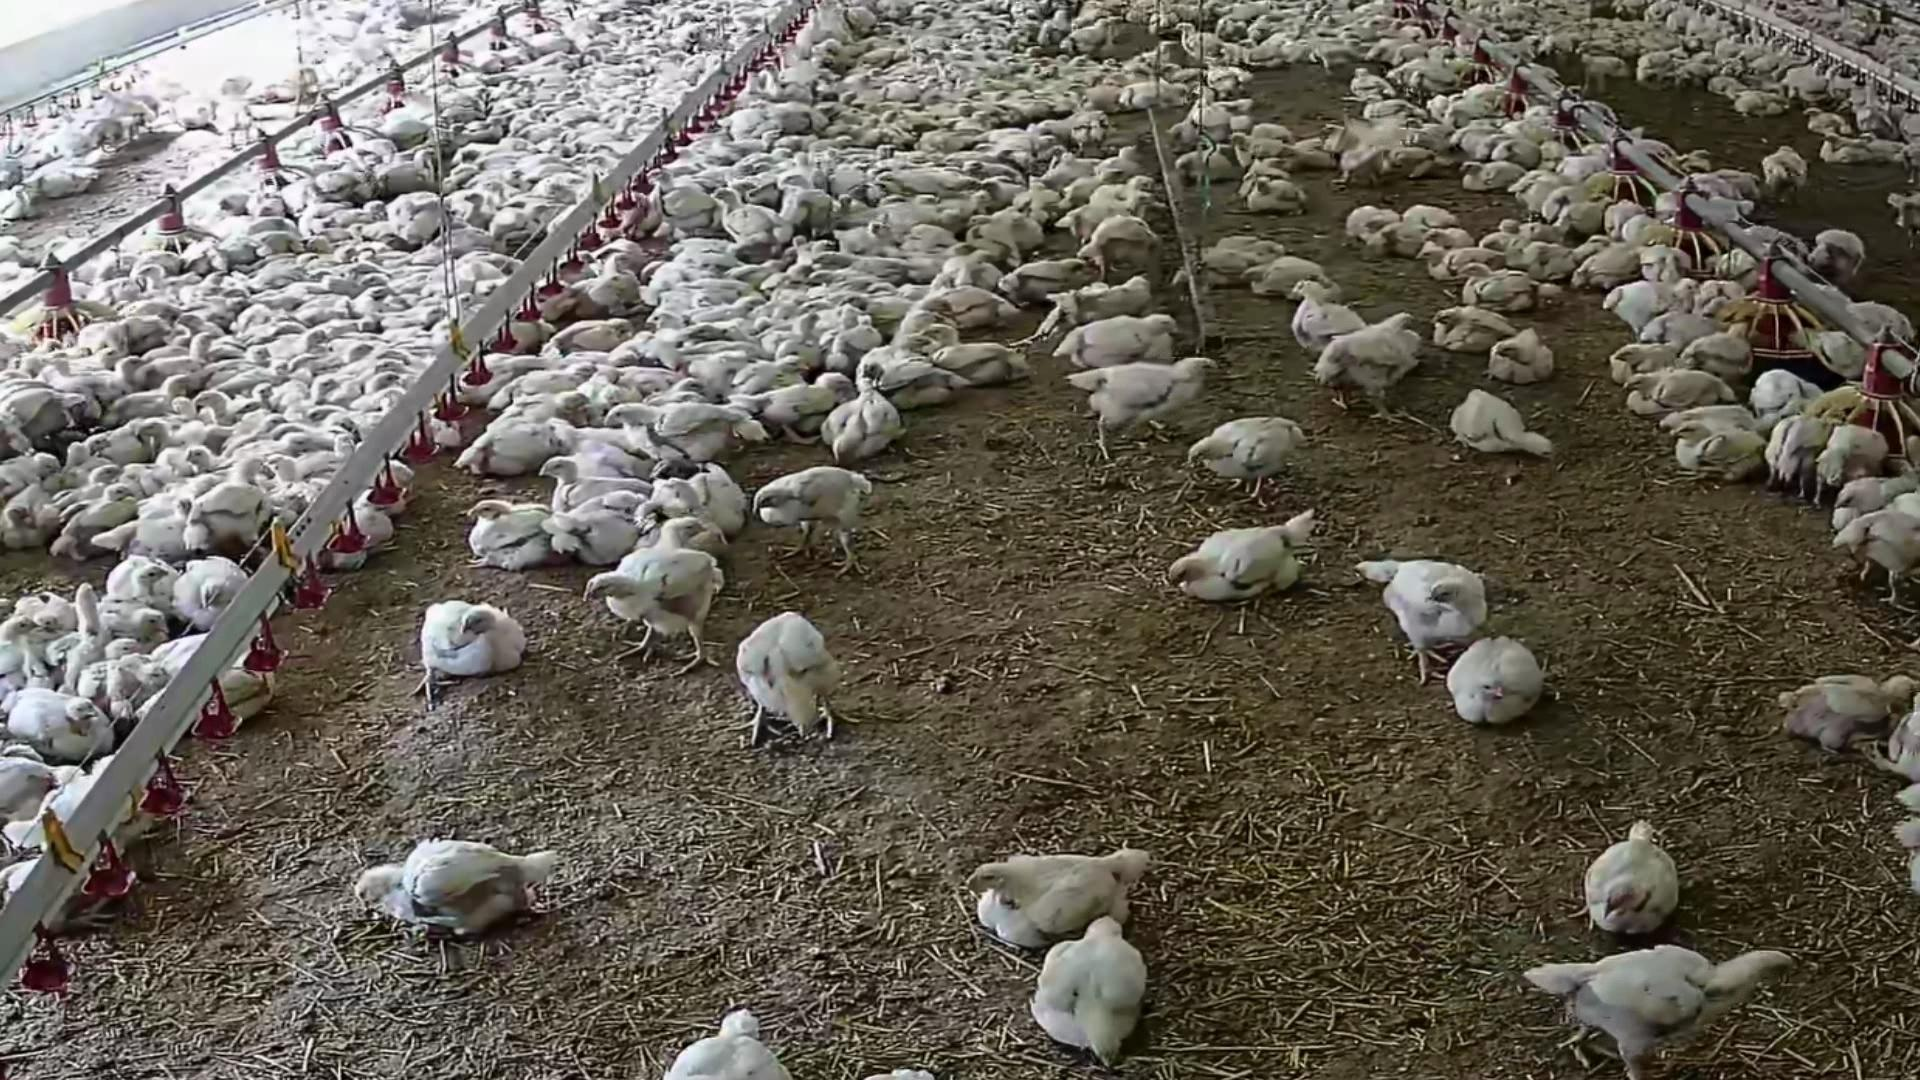poussin: (1524, 943, 1799, 1075), (342, 832, 571, 969), (961, 845, 1151, 948), (1033, 913, 1159, 1059), (1353, 554, 1493, 686), (582, 541, 709, 679), (1067, 349, 1220, 459), (1164, 508, 1317, 616), (732, 603, 841, 752), (752, 462, 873, 588), (414, 589, 527, 707), (1184, 410, 1315, 509), (1436, 632, 1563, 731), (1316, 306, 1420, 418), (1580, 815, 1677, 932), (607, 398, 764, 471), (1772, 674, 1912, 753), (651, 1007, 798, 1080), (199, 630, 298, 731), (1059, 302, 1184, 371), (1448, 385, 1552, 463), (752, 369, 869, 431), (1803, 425, 1886, 510), (189, 456, 262, 551), (1663, 407, 1771, 471), (559, 496, 665, 559), (534, 456, 666, 506), (1851, 501, 1920, 597), (468, 496, 553, 574), (1295, 280, 1367, 368), (926, 320, 1022, 385), (829, 372, 899, 460), (1458, 262, 1568, 318), (62, 483, 145, 550), (1818, 476, 1892, 551), (109, 495, 198, 555), (711, 182, 787, 252), (1058, 269, 1163, 319), (458, 419, 560, 469), (17, 698, 103, 756), (1625, 371, 1730, 415), (0, 389, 87, 443), (1766, 417, 1820, 502), (1606, 280, 1701, 328), (1879, 807, 1920, 916), (1063, 190, 1162, 235), (1876, 694, 1920, 794), (1684, 324, 1770, 375), (860, 361, 967, 401), (479, 392, 583, 431), (1002, 257, 1096, 301), (646, 167, 709, 229), (448, 351, 526, 401), (70, 575, 108, 676), (1079, 214, 1167, 257), (1487, 327, 1555, 382), (500, 360, 600, 397), (1244, 258, 1344, 295), (91, 87, 154, 145), (1356, 223, 1440, 266), (1428, 305, 1510, 349), (182, 562, 247, 618), (7, 481, 57, 554), (1184, 82, 1257, 132), (555, 309, 644, 349), (928, 289, 1021, 327), (588, 253, 646, 314), (1799, 227, 1862, 282), (290, 433, 357, 484), (121, 373, 195, 419), (0, 758, 57, 818), (1332, 124, 1383, 189), (107, 558, 175, 605), (1199, 237, 1278, 278), (737, 351, 807, 397), (1408, 243, 1506, 276), (1577, 236, 1639, 286), (485, 199, 554, 244), (58, 463, 125, 508), (1241, 174, 1308, 219), (390, 190, 447, 243), (829, 311, 881, 369), (1604, 343, 1693, 376), (1751, 376, 1833, 411), (255, 247, 323, 289), (94, 82, 160, 125), (127, 447, 185, 496), (25, 166, 109, 199), (211, 98, 258, 156), (943, 244, 1007, 286), (1085, 173, 1156, 211), (1630, 318, 1738, 343), (1688, 166, 1760, 203), (968, 208, 1046, 243), (837, 287, 920, 319), (865, 330, 931, 368), (42, 347, 124, 377), (1553, 194, 1614, 235), (1455, 157, 1530, 190), (496, 305, 553, 348), (385, 144, 438, 190), (724, 251, 796, 284), (1764, 140, 1803, 199), (1229, 131, 1295, 164), (651, 513, 708, 550), (1720, 87, 1788, 117), (901, 215, 960, 249), (1890, 181, 1920, 247), (135, 265, 203, 294), (687, 295, 770, 319), (857, 1058, 944, 1080), (1341, 206, 1408, 235), (1639, 248, 1697, 281), (112, 298, 193, 322), (1523, 244, 1575, 281), (316, 167, 371, 202), (1097, 137, 1147, 174), (1505, 182, 1568, 211), (287, 323, 327, 369), (298, 289, 351, 323), (237, 210, 297, 240), (592, 237, 649, 269), (1200, 54, 1261, 83), (1364, 95, 1433, 120), (0, 451, 57, 481), (1175, 144, 1232, 174), (120, 612, 174, 644), (1290, 136, 1344, 167), (1576, 53, 1636, 80), (216, 228, 266, 261), (240, 438, 327, 456), (1693, 284, 1749, 313), (1801, 104, 1854, 135), (260, 455, 305, 491), (1862, 129, 1909, 162), (41, 237, 96, 265), (646, 455, 705, 480), (185, 241, 231, 273), (1077, 105, 1109, 152), (229, 340, 280, 369), (128, 665, 178, 694), (1493, 137, 1543, 166), (298, 372, 340, 406), (252, 179, 289, 218), (40, 585, 62, 647), (191, 386, 235, 417), (1408, 204, 1453, 233), (1564, 231, 1605, 262), (1813, 133, 1862, 160), (251, 231, 305, 255), (1416, 228, 1481, 248), (1342, 70, 1393, 95), (135, 249, 194, 270), (96, 274, 141, 302), (183, 324, 218, 360), (454, 251, 525, 268), (862, 277, 928, 295), (1556, 152, 1610, 174), (236, 425, 313, 440), (465, 190, 493, 232), (107, 629, 137, 667), (1672, 148, 1710, 178), (690, 323, 736, 348), (287, 171, 311, 218), (170, 309, 211, 335), (642, 309, 692, 330), (357, 357, 417, 375), (215, 191, 257, 215), (808, 132, 857, 152), (136, 421, 178, 443), (1208, 70, 1245, 95), (116, 351, 149, 378), (663, 375, 705, 396), (487, 174, 510, 211), (204, 265, 237, 291), (357, 371, 407, 388), (11, 608, 34, 644), (319, 418, 368, 435), (331, 342, 371, 363), (252, 410, 295, 429), (502, 167, 530, 196), (873, 191, 916, 210), (302, 406, 352, 422), (800, 269, 847, 286), (389, 314, 448, 327), (171, 396, 199, 423), (365, 347, 418, 361), (186, 443, 219, 465), (91, 433, 121, 456), (1, 186, 25, 216), (216, 297, 261, 313), (795, 295, 833, 314), (861, 219, 899, 237), (233, 396, 269, 415), (215, 284, 257, 299), (472, 280, 504, 301), (247, 381, 282, 400), (960, 190, 996, 208), (778, 174, 815, 191), (1493, 218, 1524, 237), (357, 286, 400, 301), (334, 245, 367, 264), (910, 193, 943, 211), (807, 248, 851, 261), (1393, 119, 1428, 135), (877, 171, 906, 190), (836, 190, 857, 215), (353, 273, 401, 284), (760, 127, 789, 144), (349, 223, 371, 245), (355, 200, 393, 212), (352, 261, 389, 273), (451, 290, 475, 309), (584, 154, 611, 170), (749, 161, 775, 177), (707, 150, 738, 164), (878, 145, 901, 164), (587, 142, 617, 156), (960, 160, 988, 173), (998, 142, 1015, 164), (0, 220, 22, 236), (977, 177, 1004, 190), (1042, 148, 1071, 160), (1527, 223, 1543, 243), (971, 141, 996, 153), (568, 152, 585, 166), (1043, 133, 1059, 142)
